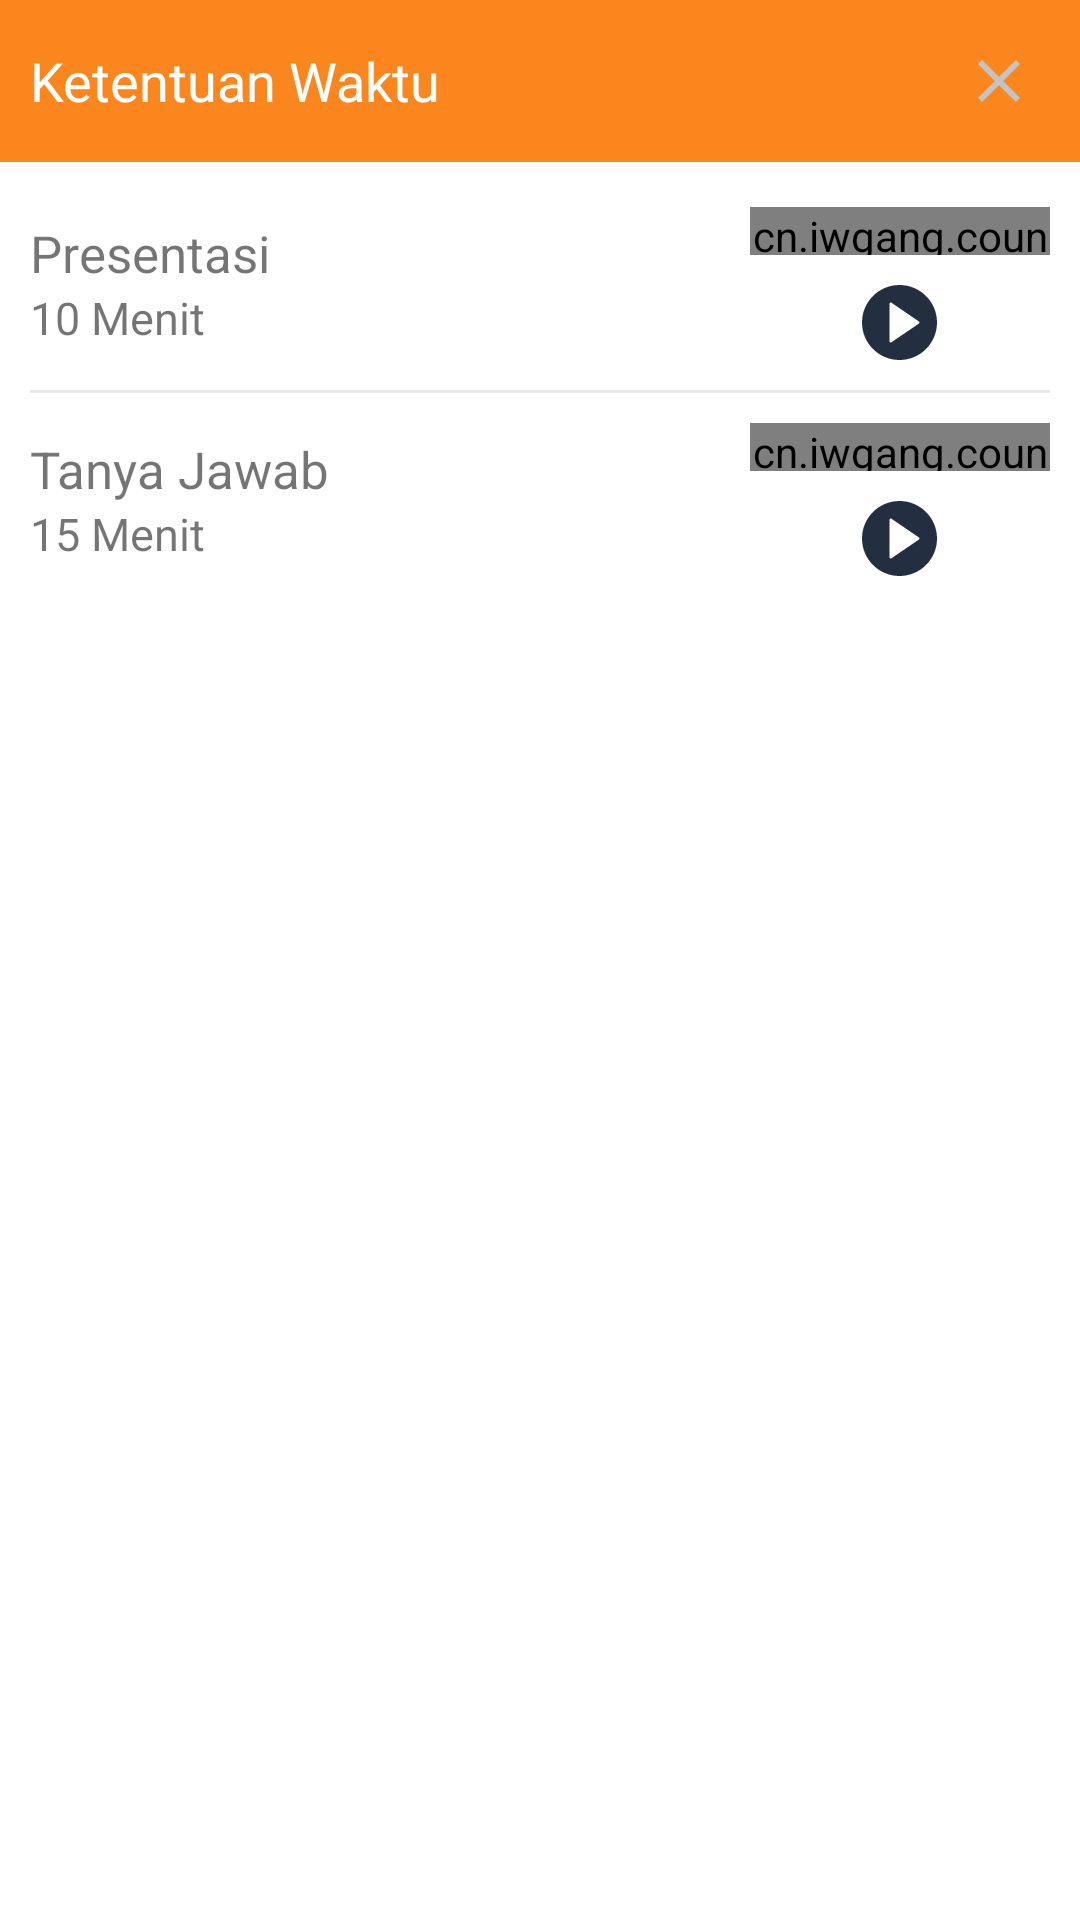

Where to tap for icons on this 1080px×1920px app screen, as point (x, y):
close: point (999, 81)
play: point (899, 322), point (899, 538)
